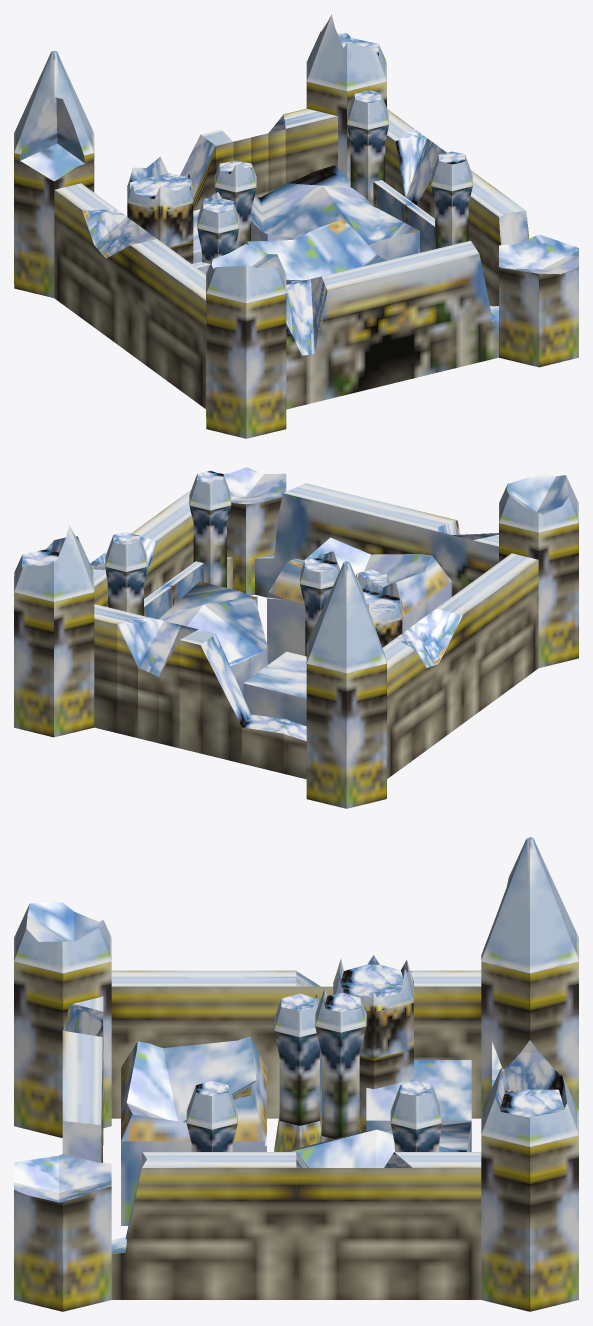
Rendered from Poly_World_Map_Castle_01_Destroyed_Snow.obj.
3 renders of one model, top to bottom at view 1: azimuth 30°, elevation 25°; view 2: azimuth 150°, elevation 25°; view 3: azimuth 270°, elevation 25°, orthographic. The views are drawn at different scales.
Visible parts, largest first — view 1: Grid.004, Grid.002, Grid.005, Grid.006, Grid.003, Grid.007; view 2: Grid.004, Grid.002, Grid.005, Grid.006, Grid.003, Grid.007; view 3: Grid.004, Grid.002, Grid.005, Grid.006, Grid.003.
Part boxes in pixels (bbox=[...]): Grid.004: bbox=[54, 108, 529, 409]; Grid.002: bbox=[14, 14, 578, 438]; Grid.005: bbox=[193, 165, 419, 284]; Grid.006: bbox=[197, 90, 472, 263]; Grid.003: bbox=[127, 157, 193, 263]; Grid.007: bbox=[192, 180, 434, 274]; Grid.004: bbox=[90, 483, 538, 779]; Grid.002: bbox=[14, 467, 578, 808]; Grid.005: bbox=[159, 537, 451, 726]; Grid.006: bbox=[105, 470, 390, 656]; Grid.003: bbox=[362, 580, 402, 647]; Grid.007: bbox=[143, 561, 402, 632]; Grid.004: bbox=[62, 970, 504, 1299]; Grid.002: bbox=[14, 837, 578, 1311]; Grid.005: bbox=[121, 1036, 471, 1225]; Grid.006: bbox=[186, 987, 441, 1151]; Grid.003: bbox=[333, 955, 413, 1132].
Size of the model in its own units: 1.79 by 1.04 by 1.94.
1 material, 1 textured.
